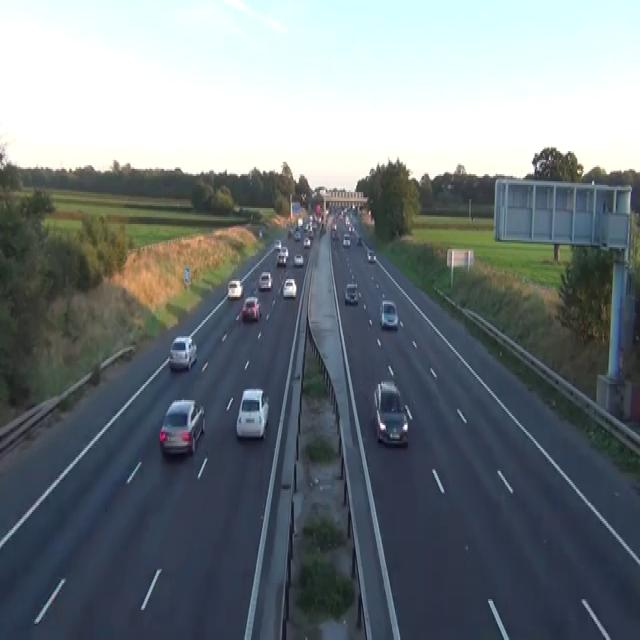Car: (159, 398, 205, 455), (373, 379, 408, 446), (235, 388, 269, 439), (168, 334, 197, 370), (379, 299, 398, 329), (241, 295, 261, 322), (282, 277, 297, 299), (227, 279, 243, 299), (344, 283, 358, 304), (258, 270, 272, 290), (276, 250, 286, 266), (330, 222, 338, 240), (293, 252, 303, 266), (366, 247, 375, 261), (342, 233, 350, 247), (280, 245, 288, 258), (300, 192, 307, 204), (274, 238, 281, 249), (293, 229, 300, 240), (303, 237, 310, 247), (331, 222, 337, 233), (348, 222, 354, 233), (446, 182, 454, 190), (297, 217, 302, 227), (287, 228, 293, 236), (356, 234, 361, 243), (258, 228, 262, 238), (308, 230, 313, 238)
